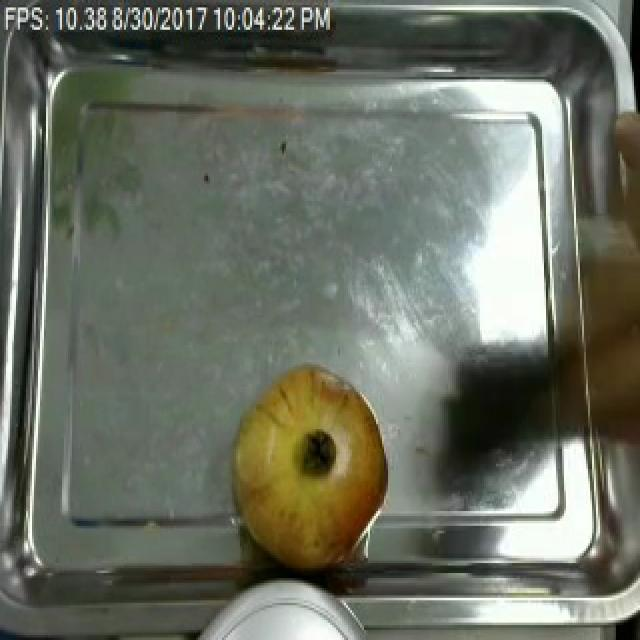fruit: (222, 352, 398, 578), (606, 99, 640, 201)
